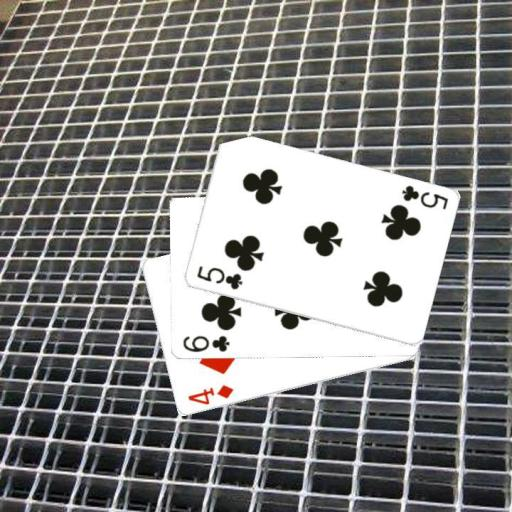4D: (184, 382, 235, 407)
5C: (398, 182, 449, 211), (193, 263, 243, 292)
6C: (180, 333, 231, 354)
